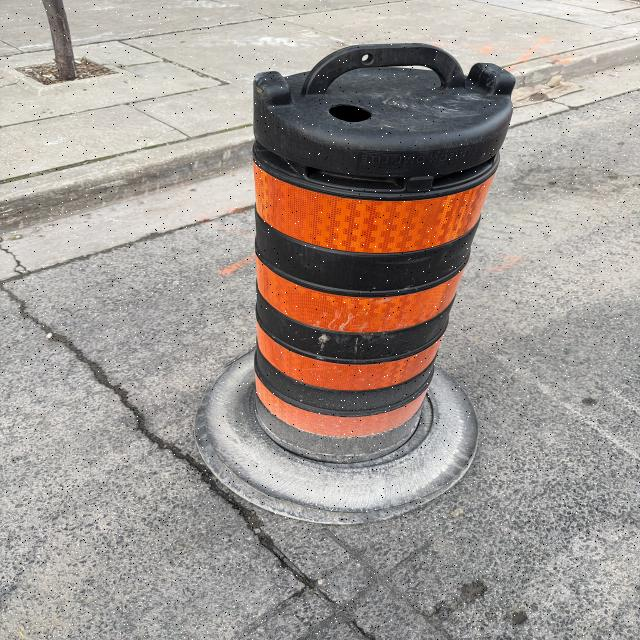Teraffic Barrel: (196, 44, 514, 521)
